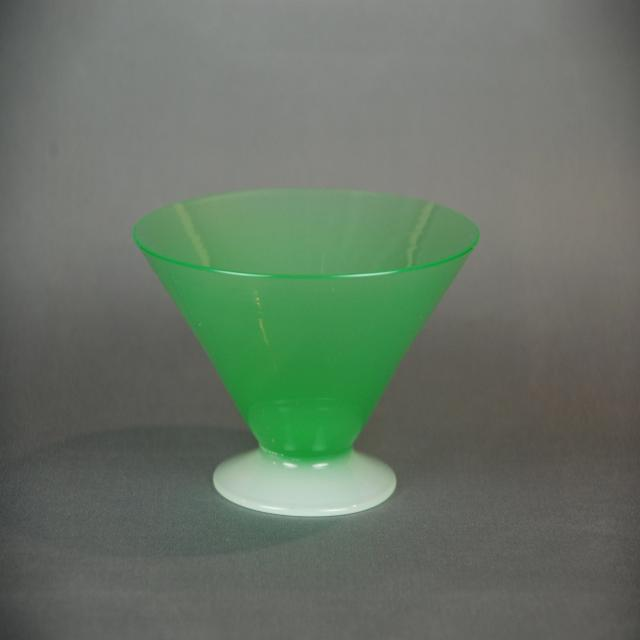non-organic waste: (130, 188, 484, 525)
